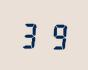nine: (43, 19, 66, 50)
three: (19, 19, 42, 49)
